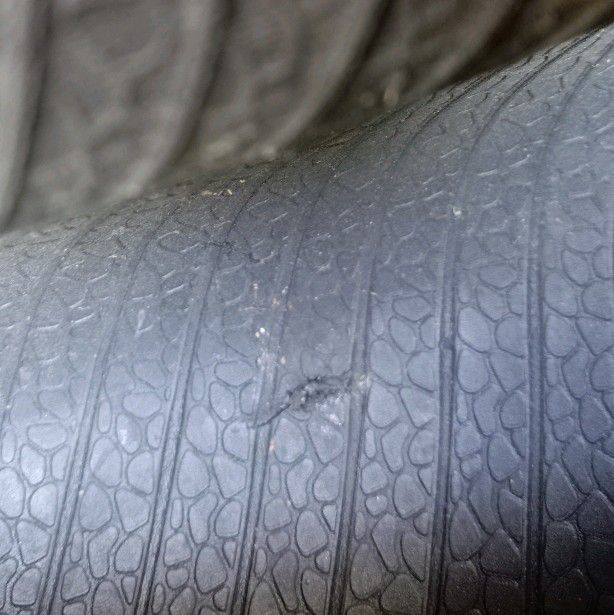CBU: (247, 353, 369, 437)
